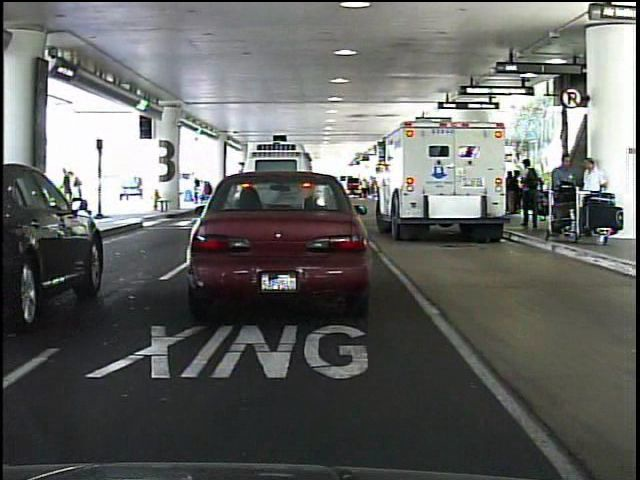person: (65, 167, 86, 222), (56, 168, 76, 225)
